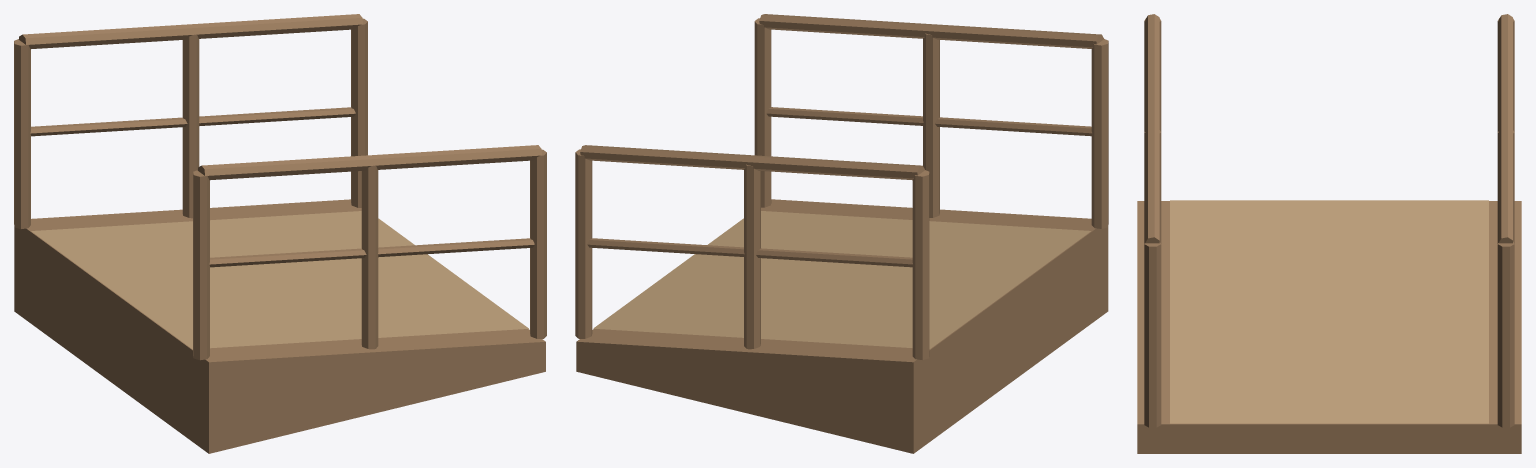
Rendered from Bridge_Rustic_EndRamp_2m.fbx.
The picture shows the model from 3 angles, left to right: view 1: azimuth 30°, elevation 25°; view 2: azimuth 150°, elevation 25°; view 3: azimuth 270°, elevation 25°; orthographic projection.
Visible parts, largest first — view 1: Bridge_Rustic_EndRamp_2m; view 2: Bridge_Rustic_EndRamp_2m; view 3: Bridge_Rustic_EndRamp_2m.
Part boxes in pixels (<box>): Bridge_Rustic_EndRamp_2m: <box>14,14,546,453</box>; Bridge_Rustic_EndRamp_2m: <box>575,14,1108,453</box>; Bridge_Rustic_EndRamp_2m: <box>1137,14,1521,453</box>.
Size of the model in its own units: 209 by 160 by 200.
